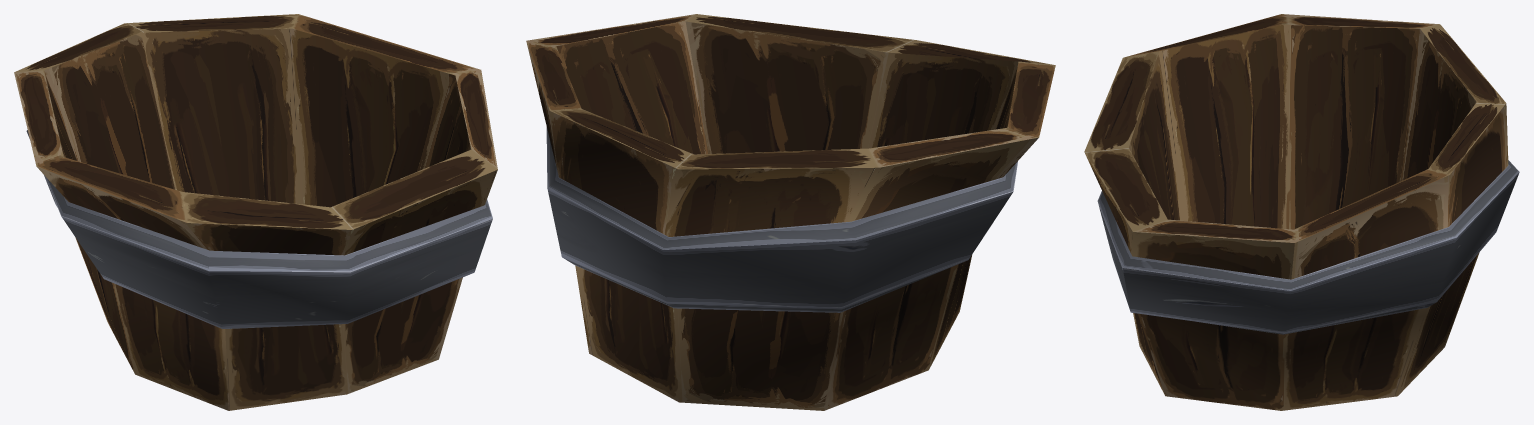
File: SM_PROP_bucket_02.fbx
3 views of the same model, side by side, from view 1: azimuth 30°, elevation 25°; view 2: azimuth 150°, elevation 25°; view 3: azimuth 270°, elevation 25° (orthographic). The views are drawn at different scales.
Parts seen in each view (by area): view 1: SM_PROP_bucket_02; view 2: SM_PROP_bucket_02; view 3: SM_PROP_bucket_02.
Boxes of the visible parts, x1=… form: SM_PROP_bucket_02: x1=14, y1=14, x2=497, y2=410; SM_PROP_bucket_02: x1=526, y1=14, x2=1055, y2=410; SM_PROP_bucket_02: x1=1084, y1=14, x2=1519, y2=410.
Bounding box in the file's own units: 69.14 × 37.41 × 60.22.
